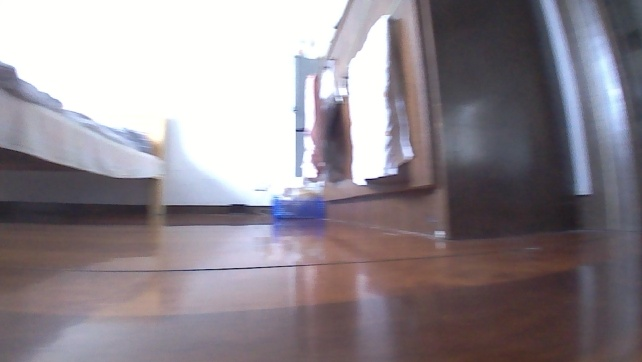bed1: (0, 59, 173, 215)
